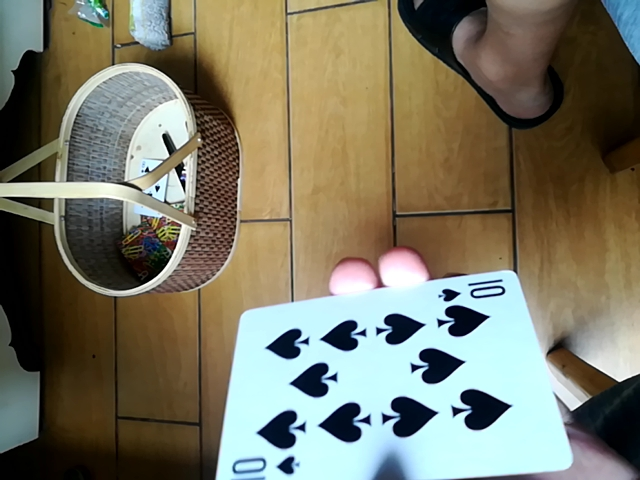ht 10: (225, 269, 570, 480)
